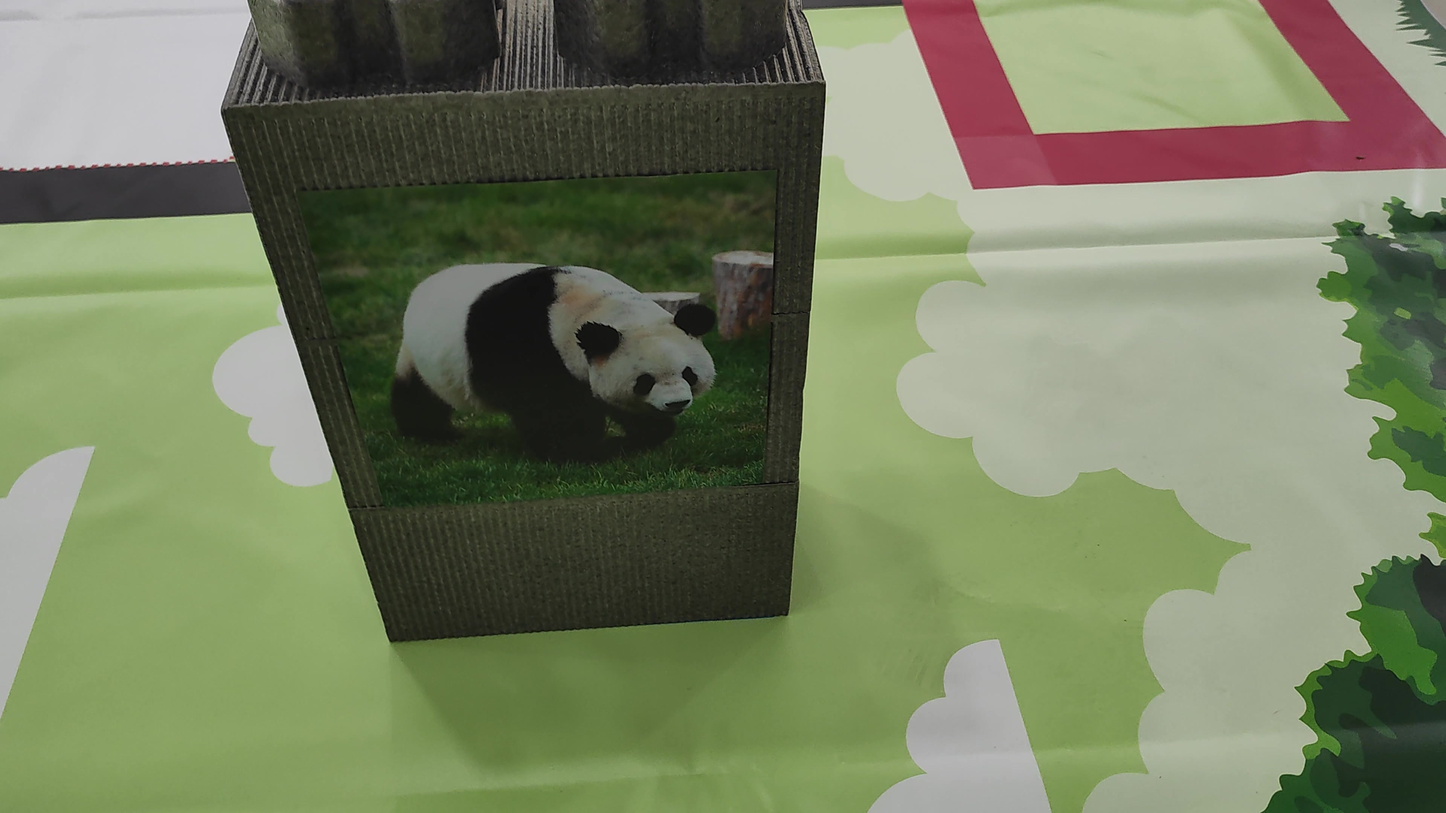panda: (309, 193, 725, 519)
